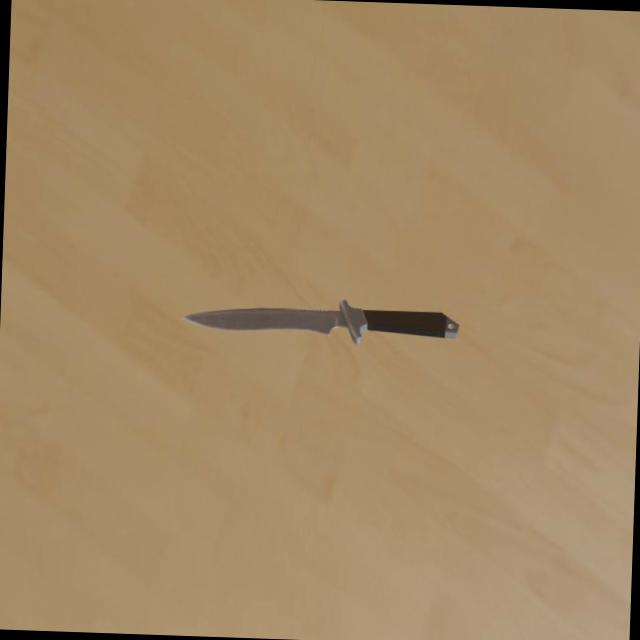knife: (362, 309, 459, 339)
